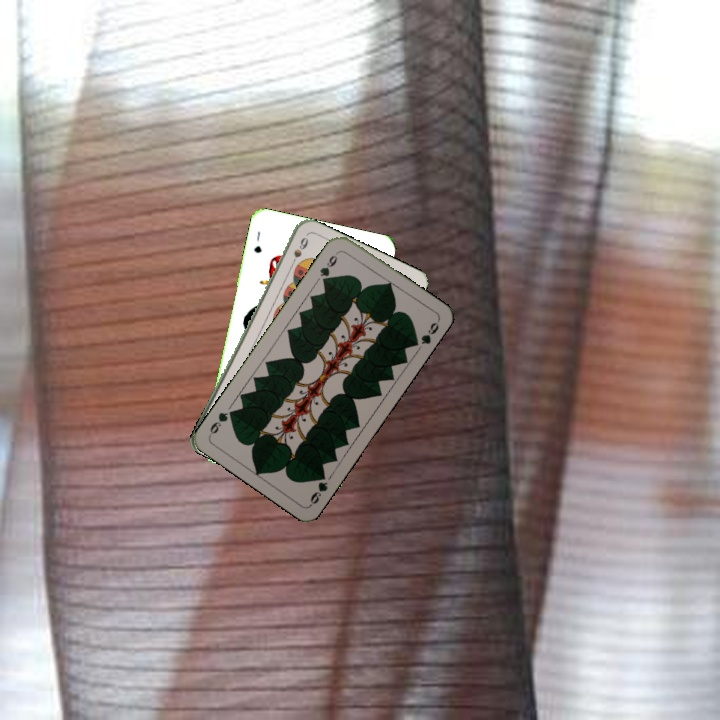G9: (316, 247, 342, 286), (306, 468, 331, 508)
GU: (250, 227, 264, 256)
S9: (286, 233, 310, 270)
